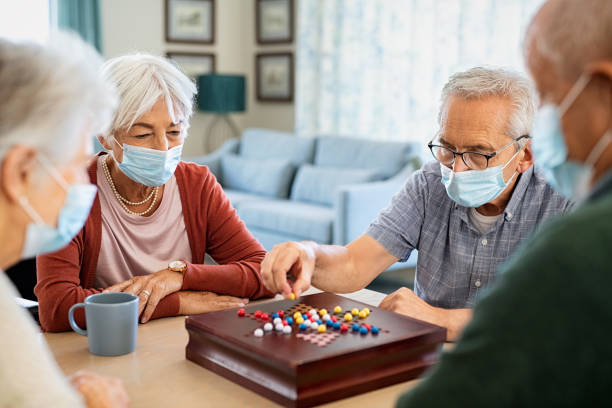with mask: (1, 29, 95, 264), (525, 18, 612, 205), (104, 59, 194, 189), (436, 75, 526, 205)
